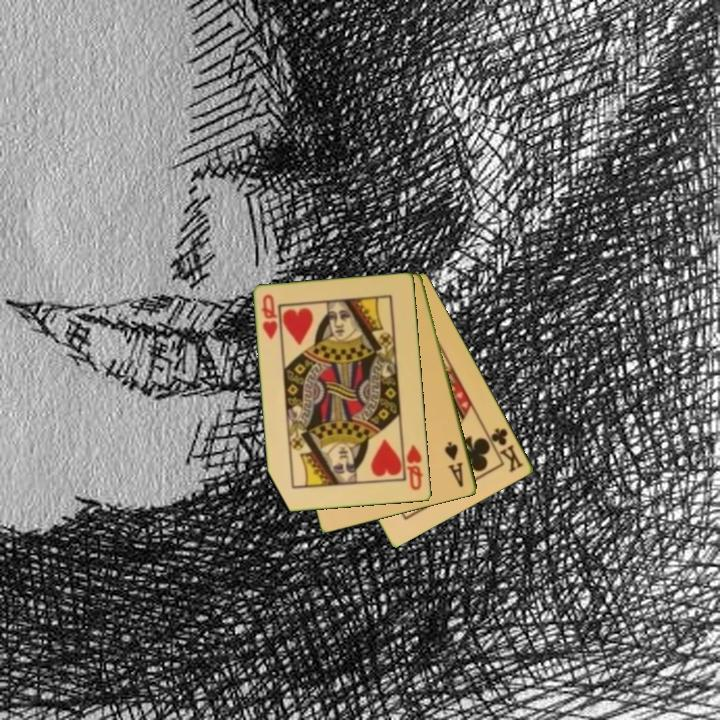As: (441, 438, 467, 491)
Kc: (483, 424, 527, 476)
Qh: (403, 441, 426, 493), (258, 291, 281, 342)
